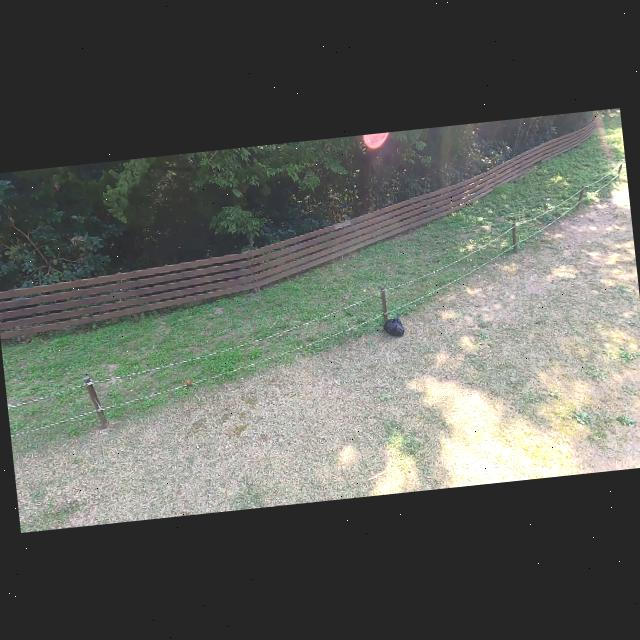trash: (382, 313, 406, 340)
